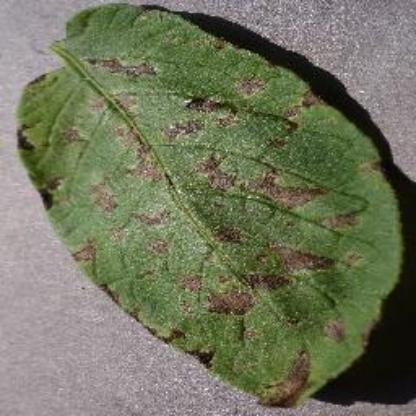Early-Blight: (18, 7, 406, 407)
